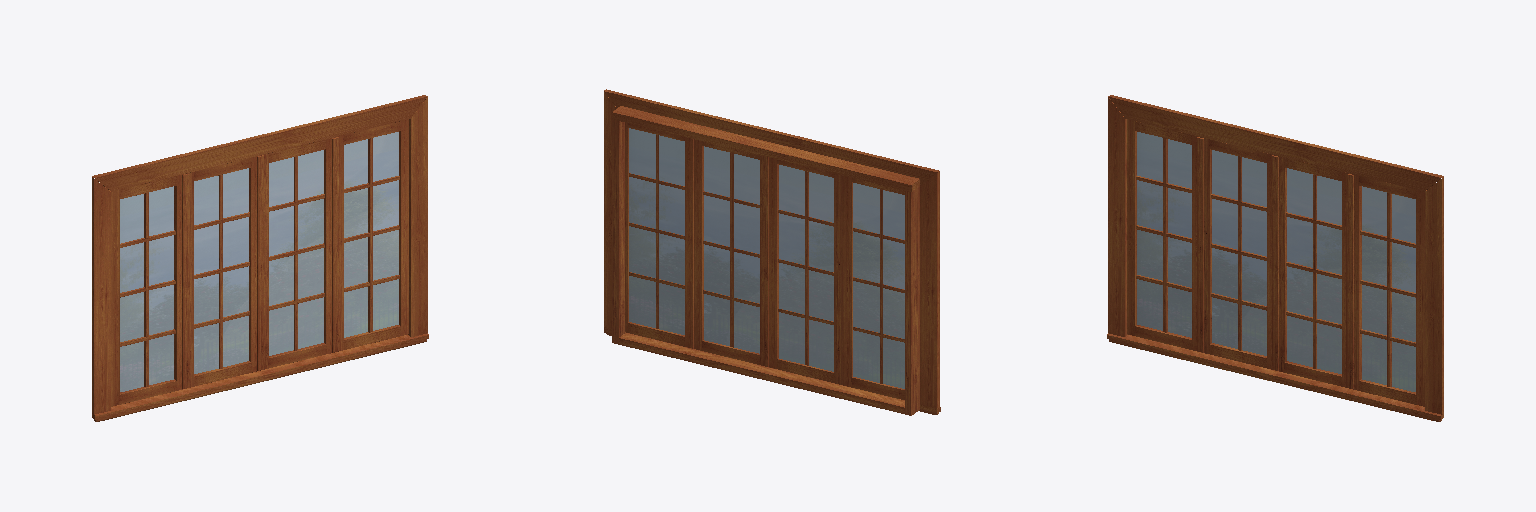
3 renders of one model, left to right at view 1: azimuth 30°, elevation 25°; view 2: azimuth 150°, elevation 25°; view 3: azimuth 330°, elevation 25°, orthographic.
Parts seen in each view (by area): view 1: glass003, glass002, glass004, glass001, trim_top, trim_left, trim_right, sill, window_right004, window_left001, astragal001, window_right003 (+20 smaller); view 2: glass004, glass003, glass002, glass001, box_top, trim_left, trim_top, sill, box_left, box_right, window_right001, window_right002 (+14 smaller); view 3: glass002, glass003, glass001, glass004, trim_top, trim_right, trim_left, sill, window_left001, window_right004, astragal003, window_left002 (+20 smaller).
Boxes of the visible parts, box(x1,y1,x2,y2) form: glass003: box(269, 150, 323, 355); glass002: box(194, 168, 248, 373); glass004: box(344, 132, 398, 337); glass001: box(120, 186, 173, 391); trim_top: box(92, 95, 427, 191); trim_left: box(92, 177, 110, 414); trim_right: box(408, 97, 427, 336); sill: box(92, 333, 428, 419); window_right004: box(399, 119, 408, 335); window_left001: box(109, 190, 119, 406); astragal001: box(182, 174, 189, 388); window_right003: box(324, 137, 334, 353); glass004: box(629, 128, 684, 334); glass003: box(704, 146, 759, 353); glass002: box(779, 165, 833, 371); glass001: box(853, 183, 904, 388); box_top: box(612, 106, 919, 191); trim_left: box(920, 171, 939, 407); trim_top: box(604, 89, 938, 185); sill: box(604, 327, 940, 413); box_left: box(905, 187, 919, 415); box_right: box(612, 119, 625, 344); window_right001: box(843, 176, 852, 387); window_right002: box(769, 158, 778, 368); glass002: box(1212, 150, 1266, 355); glass003: box(1287, 168, 1341, 373); glass001: box(1137, 132, 1191, 337); glass004: box(1362, 186, 1415, 391); trim_top: box(1108, 95, 1443, 191); trim_right: box(1425, 177, 1443, 414); trim_left: box(1108, 97, 1127, 336); sill: box(1107, 333, 1443, 419); window_left001: box(1127, 119, 1136, 335); window_right004: box(1416, 190, 1426, 406); astragal003: box(1346, 174, 1353, 388); window_left002: box(1201, 137, 1211, 353).
Bounding box in the file's own units: 77.25 × 54.09 × 5.
Materials: 7 (7 with a texture image).